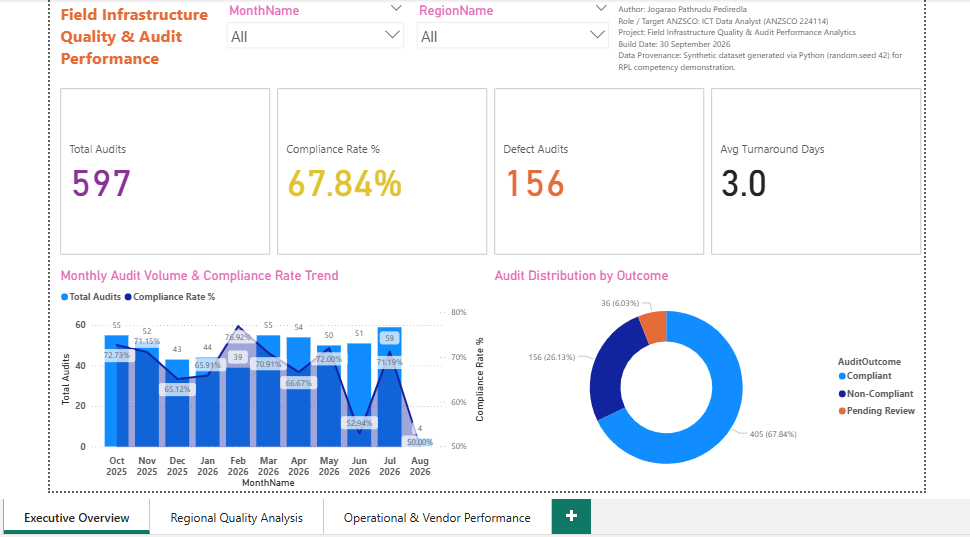

What the dashboard file says about the page in this screenshot:
{"tool":"powerbi","page":{"name":"Executive Overview","canvas":[1280,720],"ordinal":0},"visuals":[{"type":"textbox","box":[10,0,280,280],"z":0},{"type":"slicer","fields":{"Values":["Dim_Date.MonthName"]},"box":[248.6,0,278.8,280.5],"z":1000},{"type":"slicer","fields":{"Values":["dim_regions.RegionName"]},"box":[527.5,0,300.7,300.7],"z":2000},{"type":"cardVisual","fields":{"Data":["_Measures.Compliance Rate %"]},"box":[327.6,126,317.5,253.6],"z":3000},{"type":"cardVisual","fields":{"Data":["_Measures.Defect Audits"]},"box":[645,126,317.5,253.6],"z":4000},{"type":"cardVisual","fields":{"Data":["_Measures.Avg Turnaround Days"]},"box":[962.5,126,317.5,253.6],"z":5000},{"type":"cardVisual","fields":{"Data":["_Measures.Total Audits"]},"box":[10.1,126,317.5,253.6],"z":6000},{"type":"lineClusteredColumnComboChart","title":"Monthly Audit Volume & Compliance Rate Trend","fields":{"Category":["Dim_Date.MonthName"],"Y":["_Measures.Total Audits"],"Y2":["_Measures.Compliance Rate %"]},"box":[10.1,393.1,629.9,327.6],"z":7000},{"type":"donutChart","title":"Audit Distribution by Outcome","fields":{"Y":["_Measures.Total Audits"],"Category":["fact_audits.AuditOutcome"]},"box":[645,393.1,635,327.6],"z":8000},{"type":"textbox","box":[826.8,0,434.6,125.9],"z":8001}]}

Visuals, with their boxes on the page's 1280x720 design canvas (x1, y1, x2, y2). These are canvas units, not pixel positions in the 970x537 screenshot, which may show the page scaled, cropped or inside an application window:
textbox: <bbox>10, 0, 290, 280</bbox>
slicer - Dim_Date.MonthName: <bbox>249, 0, 527, 280</bbox>
slicer - dim_regions.RegionName: <bbox>528, 0, 828, 301</bbox>
cardVisual - _Measures.Compliance Rate %: <bbox>328, 126, 645, 380</bbox>
cardVisual - _Measures.Defect Audits: <bbox>645, 126, 962, 380</bbox>
cardVisual - _Measures.Avg Turnaround Days: <bbox>962, 126, 1280, 380</bbox>
cardVisual - _Measures.Total Audits: <bbox>10, 126, 328, 380</bbox>
"Monthly Audit Volume & Compliance Rate Trend" lineClusteredColumnComboChart: <bbox>10, 393, 640, 721</bbox>
"Audit Distribution by Outcome" donutChart: <bbox>645, 393, 1280, 721</bbox>
textbox: <bbox>827, 0, 1261, 126</bbox>
